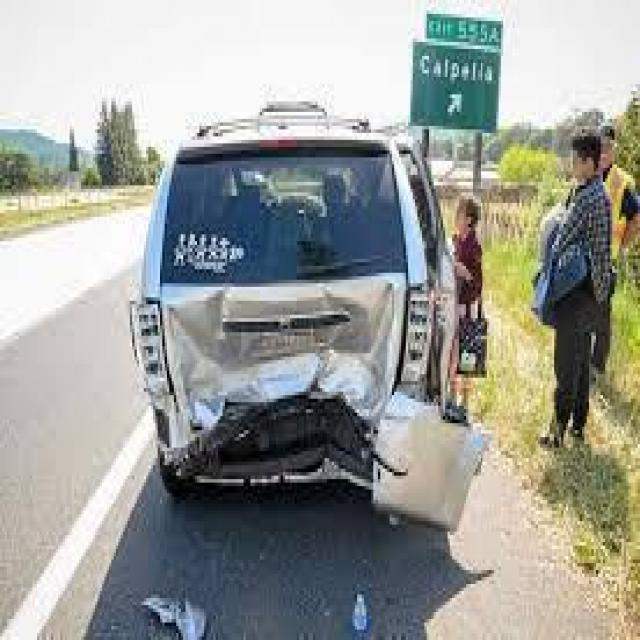damaged: (142, 286, 460, 514)
